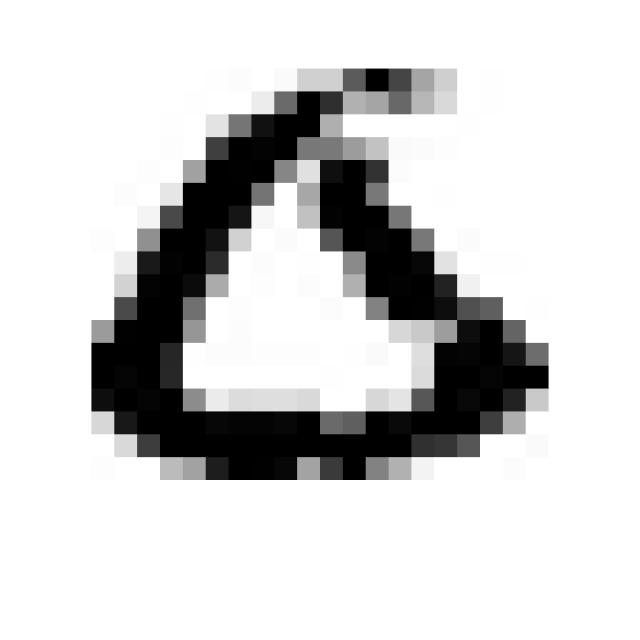5 -five-: (71, 43, 565, 500)
